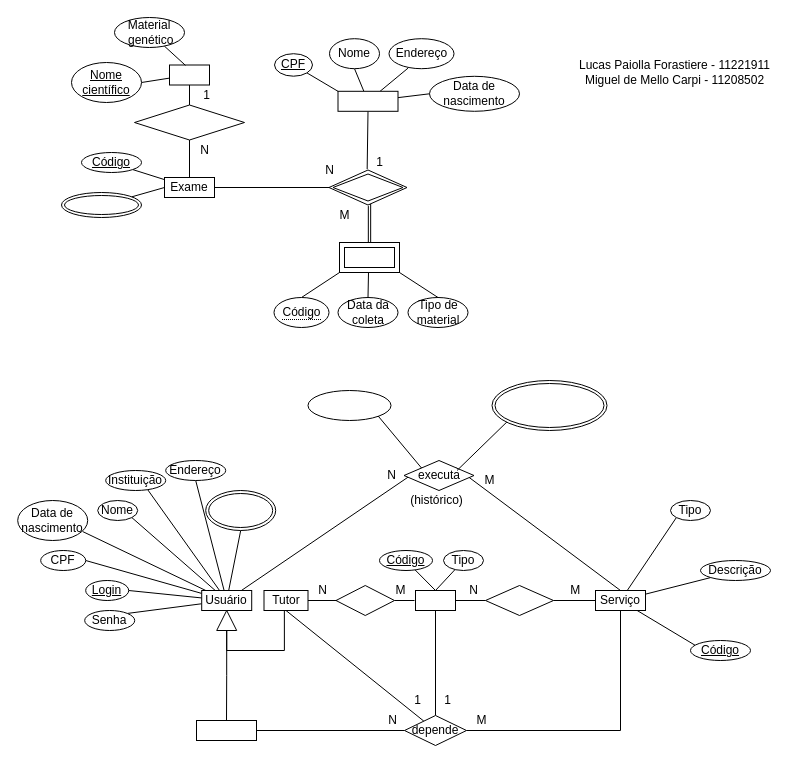
Image size: 797x763. Some labels were removed from this diagram. Each missing label, with the centre of its shape:
"Amostra" goes at pixel 369 257.
"aplicado-para" goes at pixel 189 122.
"Horário" goes at pixel 349 405.
"Paciente" goes at pixel 367 100.
"Parâmetros do serviço realizado" goes at pixel 549 405.
"Perfil" goes at pixel 435 600.
"permite" goes at pixel 519 600.
"possui" goes at pixel 364 600.
"realiza" goes at pixel 367 187.
"Resultados" goes at pixel 101 205.
"Tutorando" goes at pixel 226 730.
"Vírus" goes at pixel 189 74.
"Área de pesquisa" goes at pixel 240 510.
